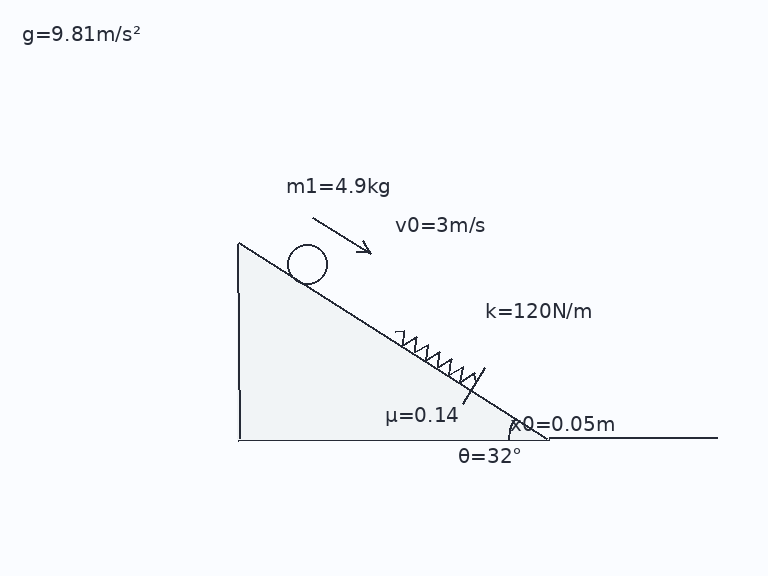ball: (285, 242, 329, 286)
ramp: (236, 243, 551, 441)
spring: (393, 328, 478, 385)
